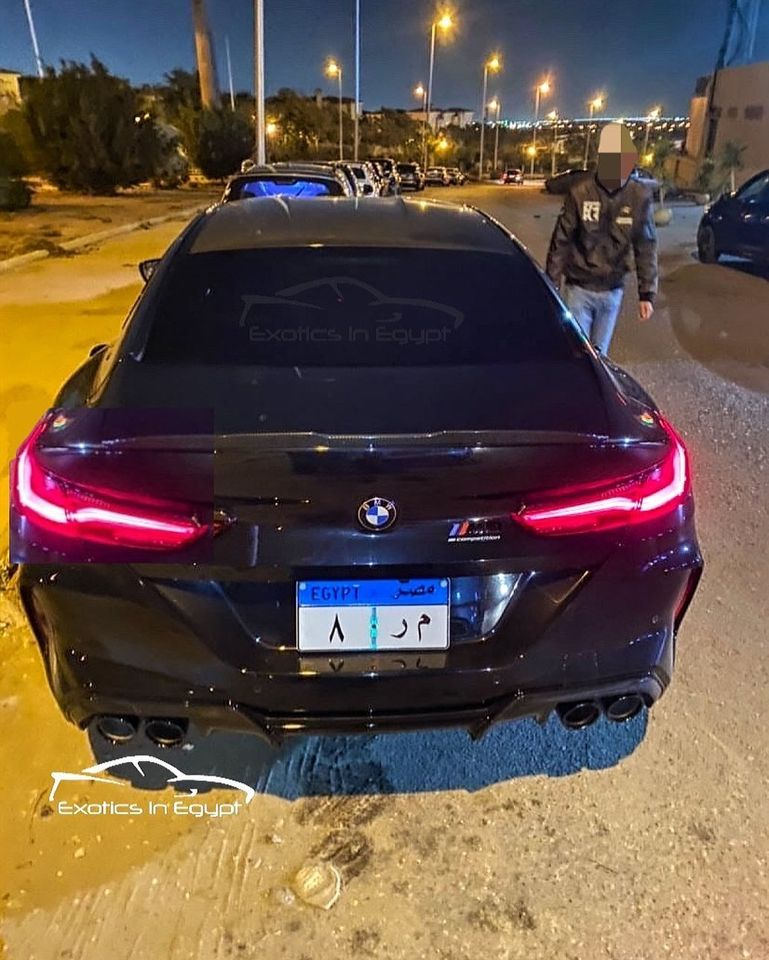carpl: (295, 578, 453, 661)
